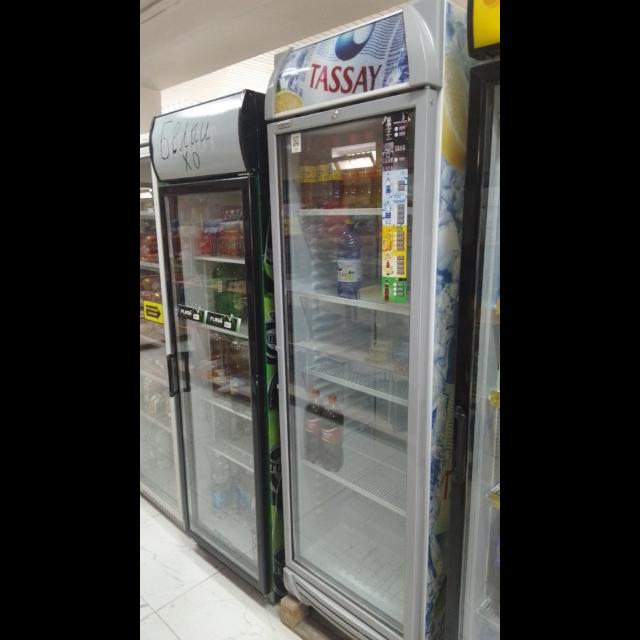Cooling-Display: (262, 1, 443, 640)
